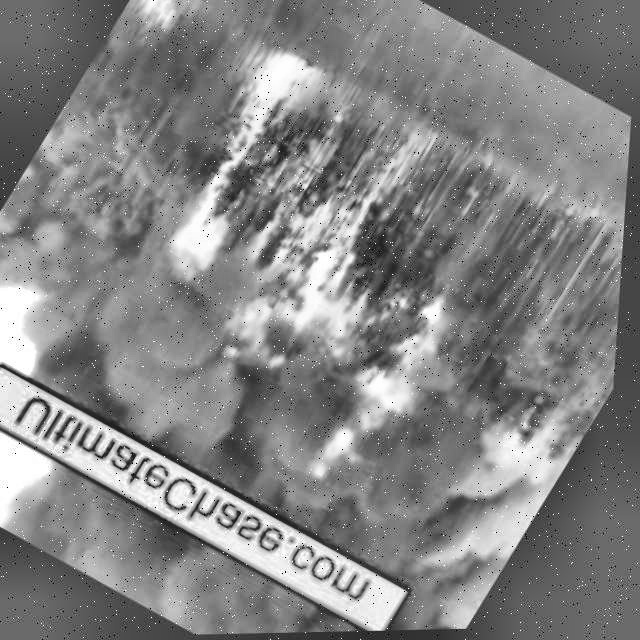Fire: (119, 48, 445, 377), (296, 289, 483, 518), (125, 0, 204, 40)
Smoke: (0, 146, 596, 638), (0, 446, 457, 640)
